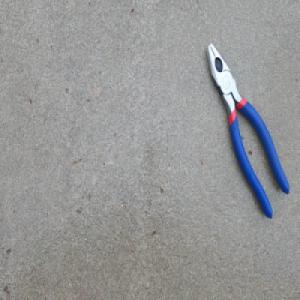Pliers: (204, 42, 289, 221)
